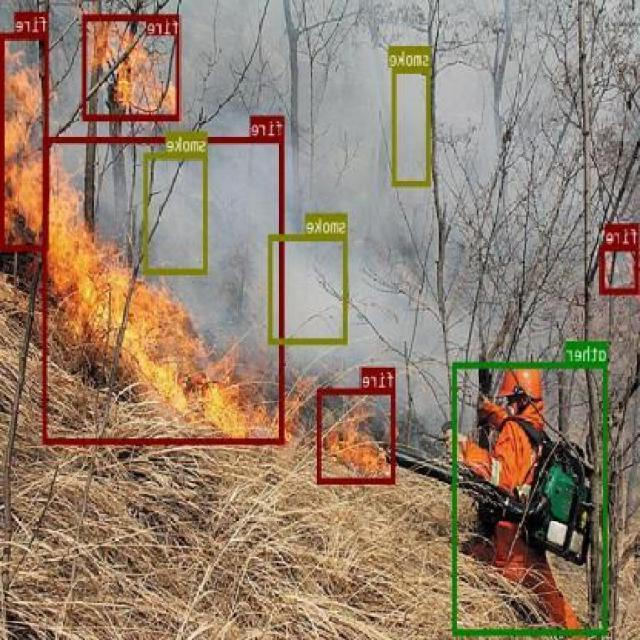Fire: (43, 135, 284, 443), (1, 32, 49, 250), (83, 13, 182, 118), (318, 388, 397, 483), (602, 244, 640, 293)
Smoke: (270, 234, 348, 343), (144, 152, 210, 274), (393, 66, 432, 185)
